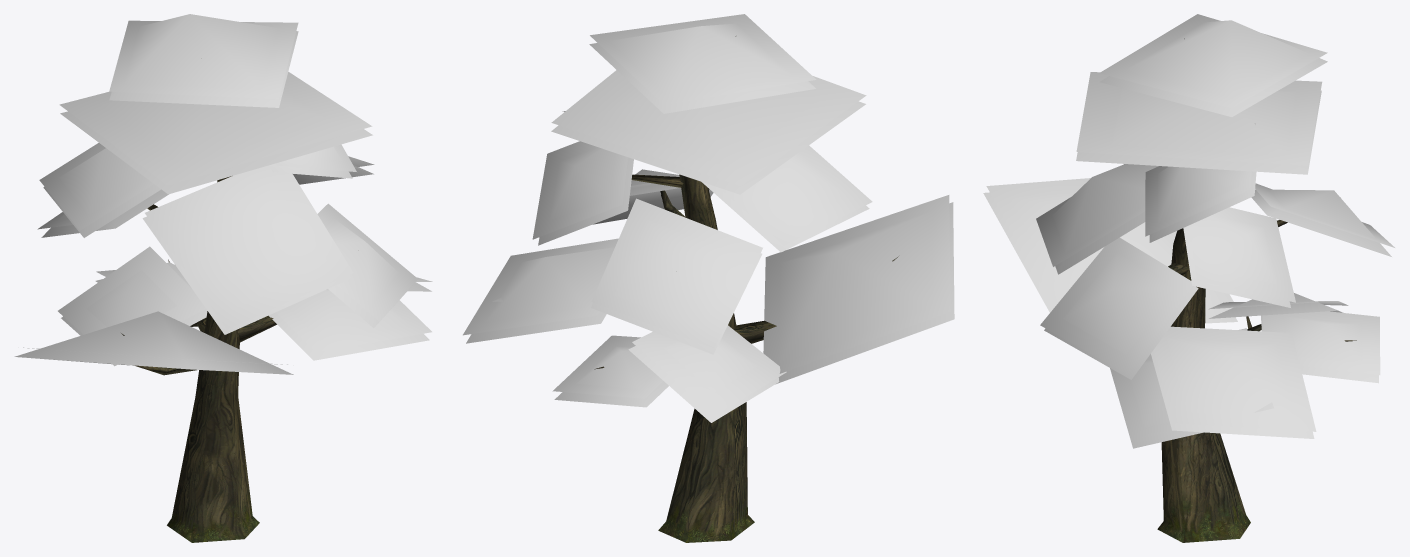
Rendered from Tree1_Col.fbx.
3 views of the same model, side by side, from view 1: azimuth 30°, elevation 25°; view 2: azimuth 150°, elevation 25°; view 3: azimuth 270°, elevation 25° (orthographic).
Parts seen in each view (by area): view 1: Tree1_LOD0, Tree1_Leaves_Col; view 2: Tree1_LOD0, Tree1_Leaves_Col; view 3: Tree1_LOD0, Tree1_Leaves_Col.
Part boxes in pixels (left/top/right/bottom): Tree1_LOD0: left=14, top=14, right=431, bottom=542; Tree1_Leaves_Col: left=23, top=20, right=432, bottom=364; Tree1_LOD0: left=466, top=23, right=954, bottom=542; Tree1_Leaves_Col: left=463, top=14, right=950, bottom=415; Tree1_LOD0: left=983, top=20, right=1391, bottom=542; Tree1_Leaves_Col: left=986, top=14, right=1394, bottom=440.
Size of the model in its own units: 890 by 998 by 746.
